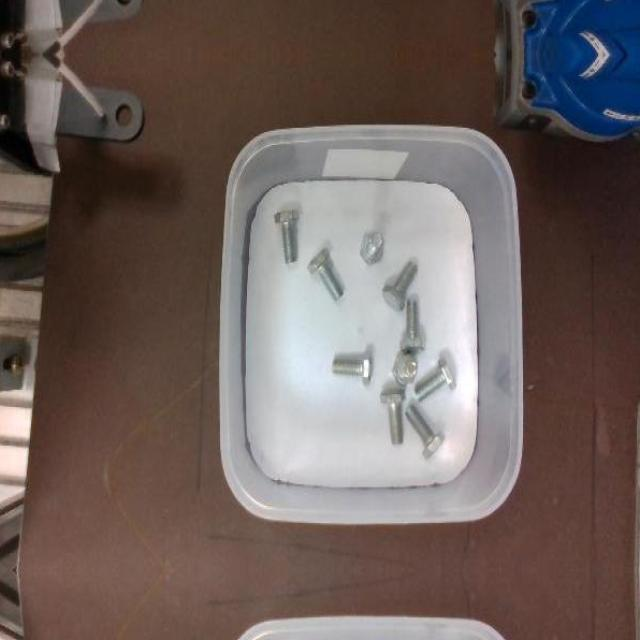screw: (404, 404, 444, 459), (306, 247, 343, 300), (414, 357, 456, 402), (382, 260, 418, 310), (379, 387, 405, 444), (398, 298, 424, 352), (274, 210, 300, 264), (332, 351, 371, 386), (391, 353, 417, 386), (360, 232, 384, 265)
